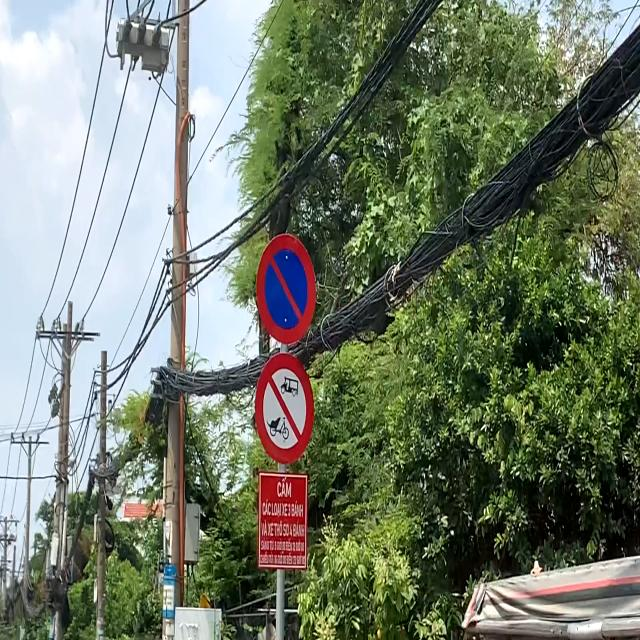P.131a: (255, 231, 316, 345)
